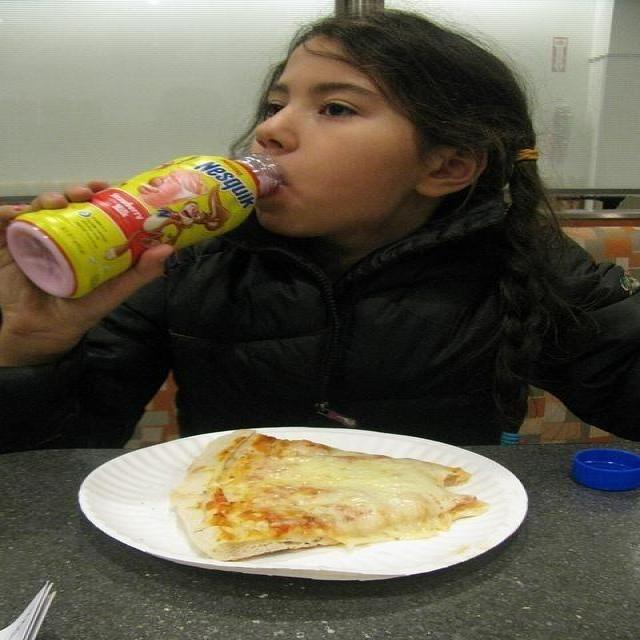bottle-plastic: (11, 154, 280, 297)
